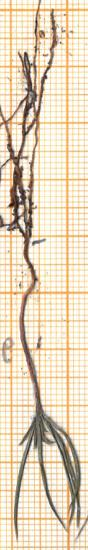flower: (5, 402, 87, 535)
root: (0, 0, 60, 237)
stem: (15, 244, 46, 409)
